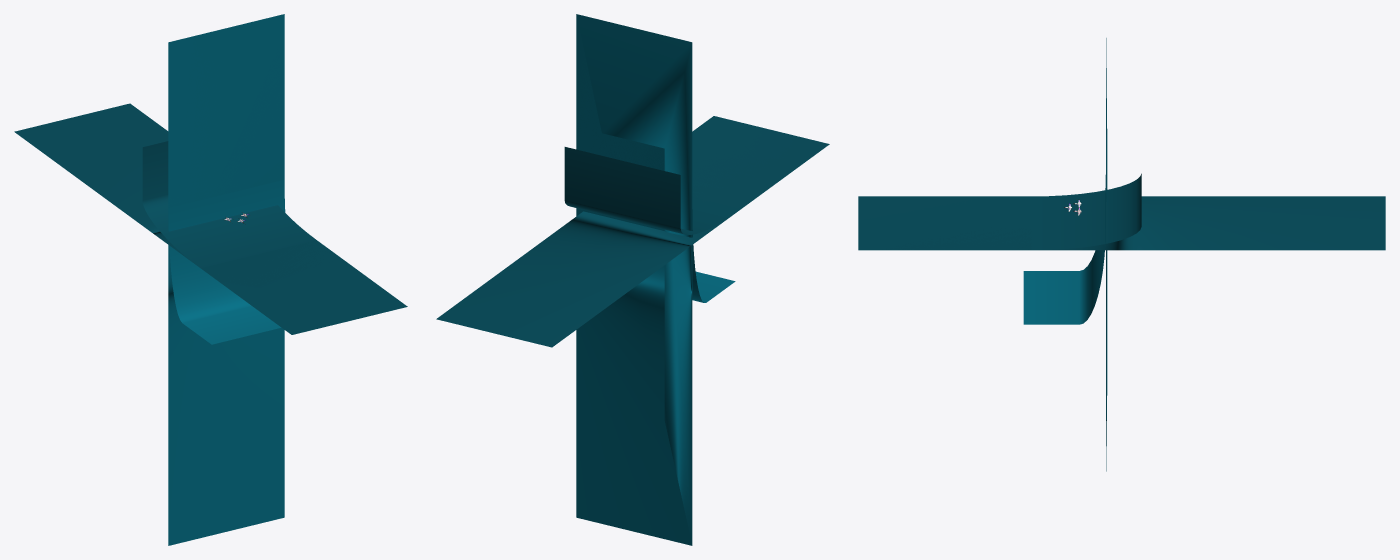
Rendered from X-Wing.fbx.
The picture shows the model from 3 angles, left to right: view 1: azimuth 30°, elevation 25°; view 2: azimuth 150°, elevation 25°; view 3: azimuth 270°, elevation 25°; orthographic projection. The views are drawn at different scales.
Visible parts, largest first — view 1: Plane.001, Plane; view 2: Plane.001, Plane; view 3: Plane, Plane.001.
Part boxes in pixels (box(x1,y1,x2,y2)): Plane.001: box(168, 14, 285, 545); Plane: box(14, 103, 407, 334); Plane.001: box(576, 14, 735, 545); Plane: box(436, 116, 829, 347); Plane: box(858, 173, 1385, 250); Plane.001: box(1023, 38, 1107, 471).
Bounding box in the file's own units: 10438 × 40789 × 40789.
